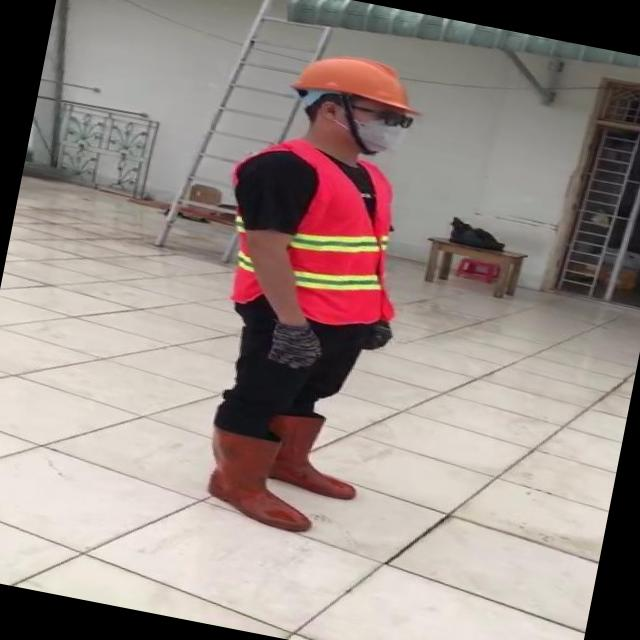boots: (235, 396, 380, 508), (200, 423, 325, 538)
helmet: (284, 42, 426, 116)
vest: (208, 125, 420, 332)
